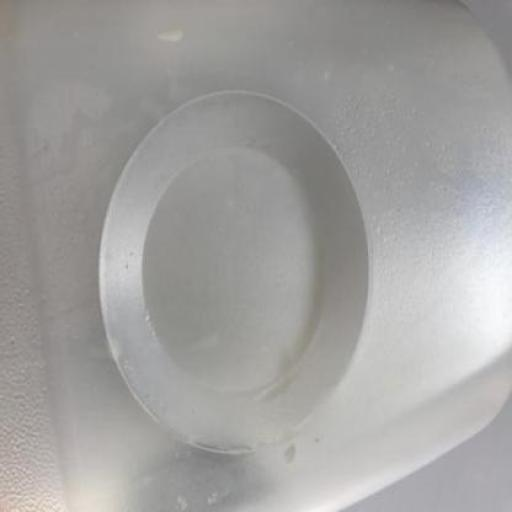plastic: (0, 1, 511, 511), (99, 90, 372, 455)
